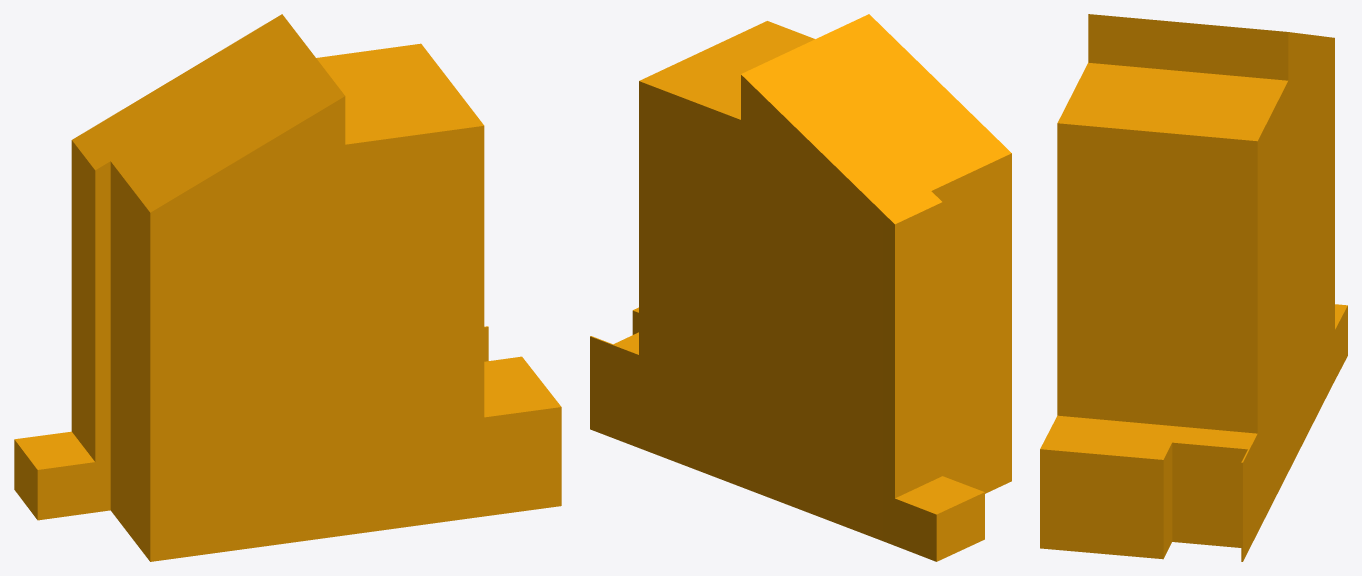
The model's file is DEHB01ALn0001N5G.gltf.
3 views of the same model, side by side, from view 1: azimuth 30°, elevation 25°; view 2: azimuth 150°, elevation 25°; view 3: azimuth 270°, elevation 25° (orthographic). The views are drawn at different scales.
Parts seen in each view (by area): view 1: Z_UP; view 2: Z_UP; view 3: Z_UP.
Boxes of the visible parts, x1,y1,x2,y2 form: Z_UP: [14, 14, 561, 561]; Z_UP: [590, 14, 1011, 561]; Z_UP: [1040, 14, 1347, 561].
Bounding box in the file's own units: 14.99 × 14.46 × 9.16.
